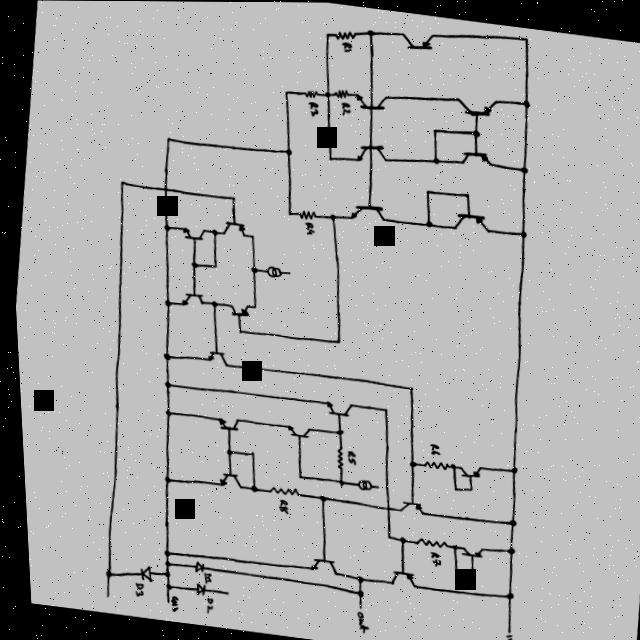crossover: (379, 504, 385, 511), (160, 185, 166, 191)
diode: (133, 564, 147, 581), (189, 581, 199, 595), (188, 559, 198, 572)
junction: (348, 573, 359, 583), (186, 258, 196, 268), (403, 457, 413, 467), (520, 97, 530, 106), (313, 492, 322, 502), (158, 350, 167, 360), (469, 127, 479, 136), (207, 297, 216, 307), (158, 474, 167, 483), (245, 482, 254, 491), (160, 222, 169, 231), (502, 516, 511, 525), (159, 379, 168, 388), (220, 446, 229, 455), (247, 263, 256, 272), (422, 218, 431, 227), (501, 544, 510, 553), (518, 164, 527, 173), (99, 568, 107, 578), (283, 145, 291, 155), (430, 155, 439, 163), (331, 426, 340, 434), (160, 407, 168, 416), (517, 228, 526, 236), (161, 297, 169, 306), (499, 590, 507, 599), (350, 587, 358, 596), (505, 464, 513, 472), (393, 534, 401, 542), (366, 27, 374, 35), (163, 134, 171, 142), (116, 177, 124, 185), (331, 336, 339, 344), (522, 34, 530, 42), (377, 405, 385, 413), (157, 569, 165, 577), (227, 193, 235, 200), (421, 187, 429, 194), (282, 87, 289, 95), (445, 542, 452, 550), (332, 477, 339, 485), (157, 548, 164, 556), (462, 190, 469, 197), (430, 126, 437, 133), (404, 383, 411, 390), (327, 212, 334, 219), (325, 153, 332, 160), (208, 227, 215, 234), (244, 449, 251, 455), (233, 327, 240, 333), (209, 261, 215, 268), (323, 90, 330, 96), (158, 559, 164, 566), (292, 472, 298, 478), (324, 30, 330, 36), (159, 582, 165, 588), (447, 566, 453, 571), (463, 485, 468, 490), (448, 485, 453, 490), (381, 533, 386, 538), (464, 566, 468, 571), (247, 233, 252, 237), (249, 303, 254, 307)
resistor: (262, 482, 296, 496), (409, 535, 442, 547), (329, 441, 341, 469), (333, 27, 356, 41), (418, 458, 444, 469), (295, 207, 316, 219), (332, 86, 349, 98), (303, 88, 318, 98)
switch: (398, 26, 435, 50)
terminal: (98, 590, 105, 598), (217, 588, 224, 594), (499, 626, 505, 633), (350, 602, 357, 608), (370, 483, 375, 488), (160, 599, 163, 603)
text: (348, 609, 363, 632), (262, 264, 284, 278), (300, 220, 314, 236), (306, 100, 318, 116), (423, 550, 435, 566), (341, 448, 352, 464), (272, 497, 283, 513), (127, 581, 138, 596), (339, 100, 350, 115), (424, 441, 436, 454), (198, 596, 207, 613), (163, 594, 172, 611), (341, 40, 353, 51), (196, 571, 205, 583), (497, 631, 507, 640)
transformer: (352, 477, 368, 489)
transistor: (450, 208, 490, 235), (453, 92, 496, 116), (347, 201, 384, 223), (354, 140, 386, 163), (383, 566, 412, 590), (320, 396, 351, 418), (353, 90, 386, 110), (303, 553, 333, 574), (460, 146, 492, 165), (212, 468, 238, 489), (219, 219, 245, 236), (395, 497, 419, 515), (281, 421, 308, 437), (179, 223, 203, 241), (178, 290, 201, 307), (203, 349, 225, 366), (212, 414, 235, 430), (454, 462, 476, 477), (226, 301, 246, 316), (455, 543, 477, 556)
